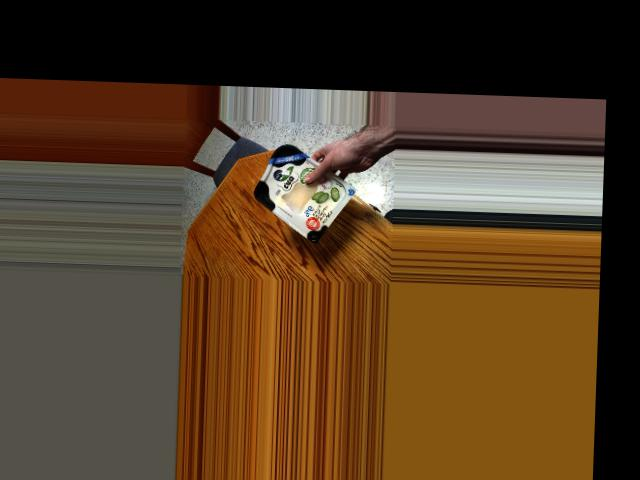cheese: (256, 137, 340, 237)
